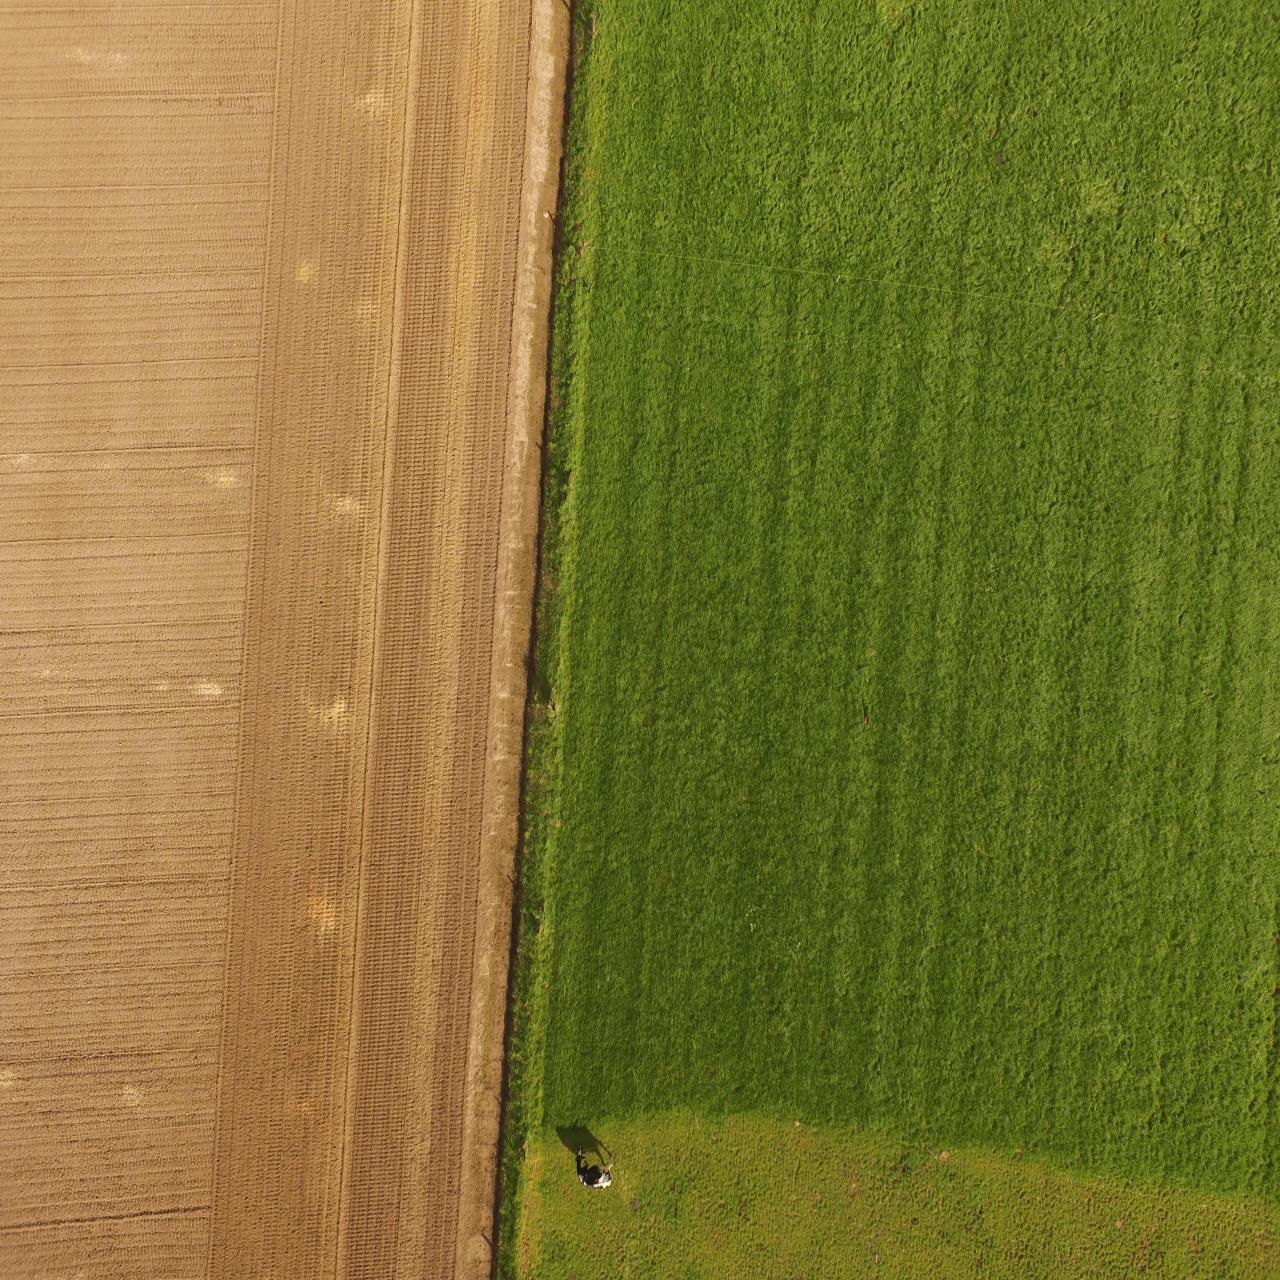cow: (575, 1145, 615, 1191)
